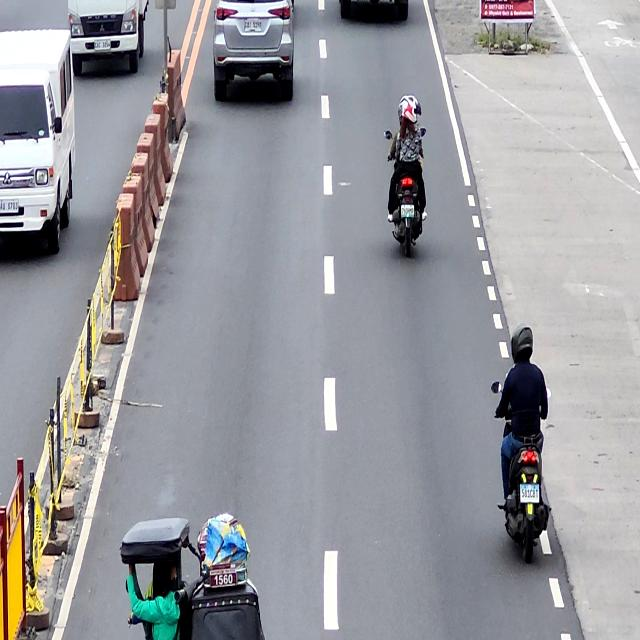Car: (212, 0, 296, 103)
License-Plate: (519, 484, 539, 505), (242, 18, 263, 34), (400, 203, 415, 220)
Motorcycle: (493, 375, 554, 565), (384, 126, 428, 260)
